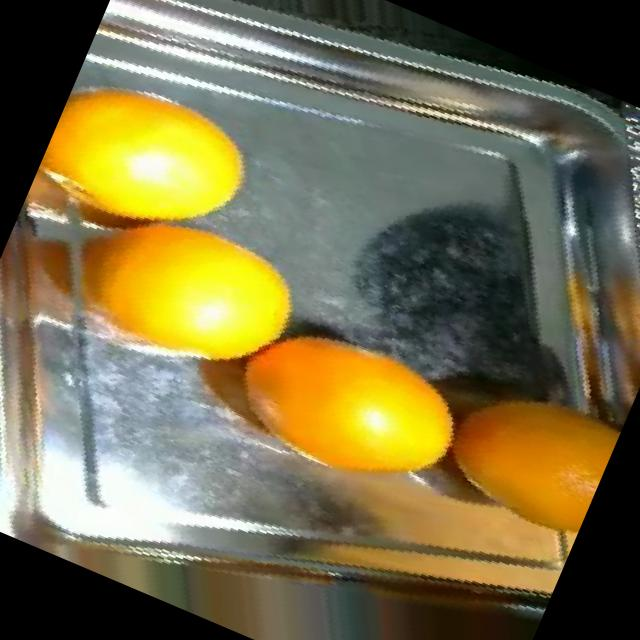Fruit: (79, 179, 337, 411), (34, 54, 280, 274)
